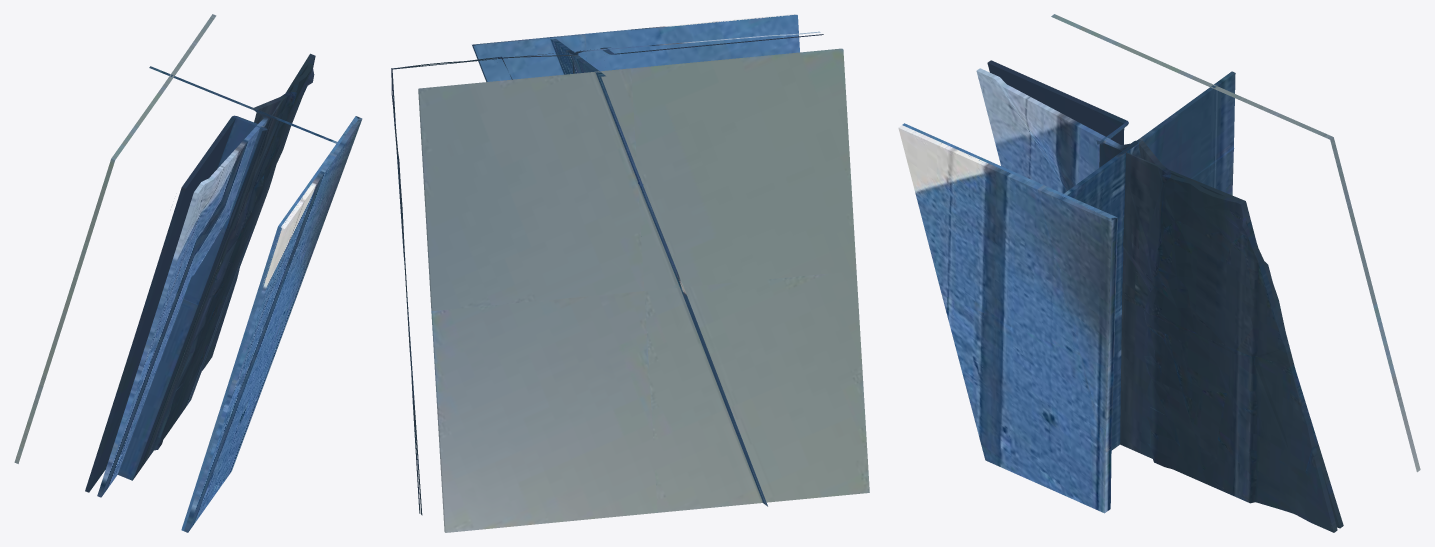
File: congresso_tile_158.glb
The picture shows the model from 3 angles, left to right: view 1: azimuth 30°, elevation 25°; view 2: azimuth 150°, elevation 25°; view 3: azimuth 270°, elevation 25°; orthographic projection. The views are drawn at different scales.
Bounding box in the file's own units: 41.49 × 42.63 × 47.21.
3 materials, 3 textured.
